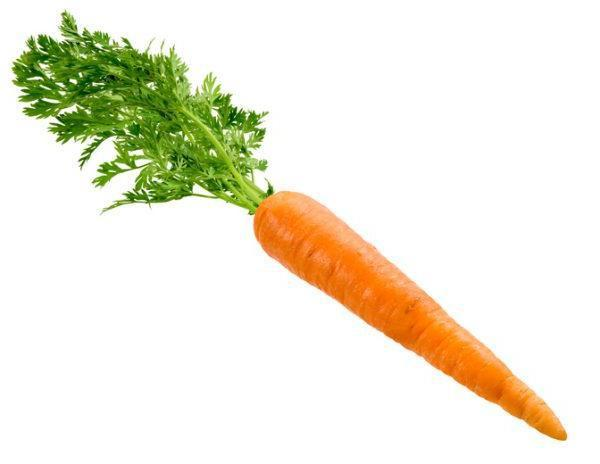carrot: (63, 71, 572, 446)
